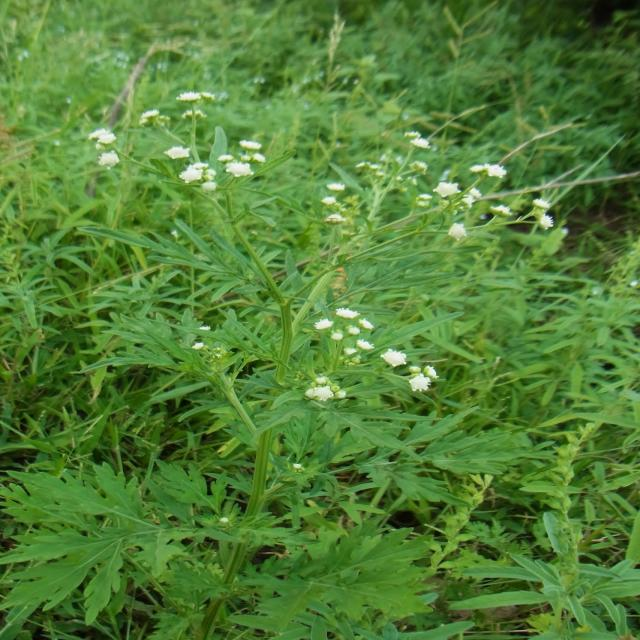Poisonous-Parthenium: (50, 84, 564, 442)
